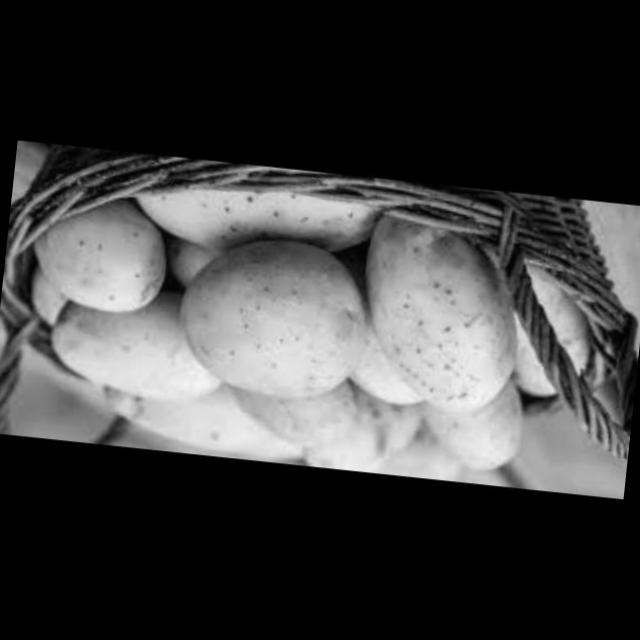khoai tay: (350, 188, 532, 422), (178, 236, 376, 408), (0, 267, 227, 411), (142, 168, 379, 271), (12, 193, 180, 333), (484, 257, 607, 422), (242, 378, 413, 476), (96, 378, 268, 453), (421, 390, 522, 485)
